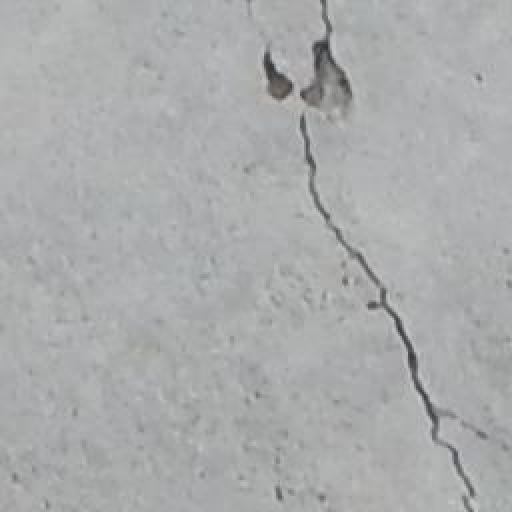spalling: (234, 3, 509, 503)
